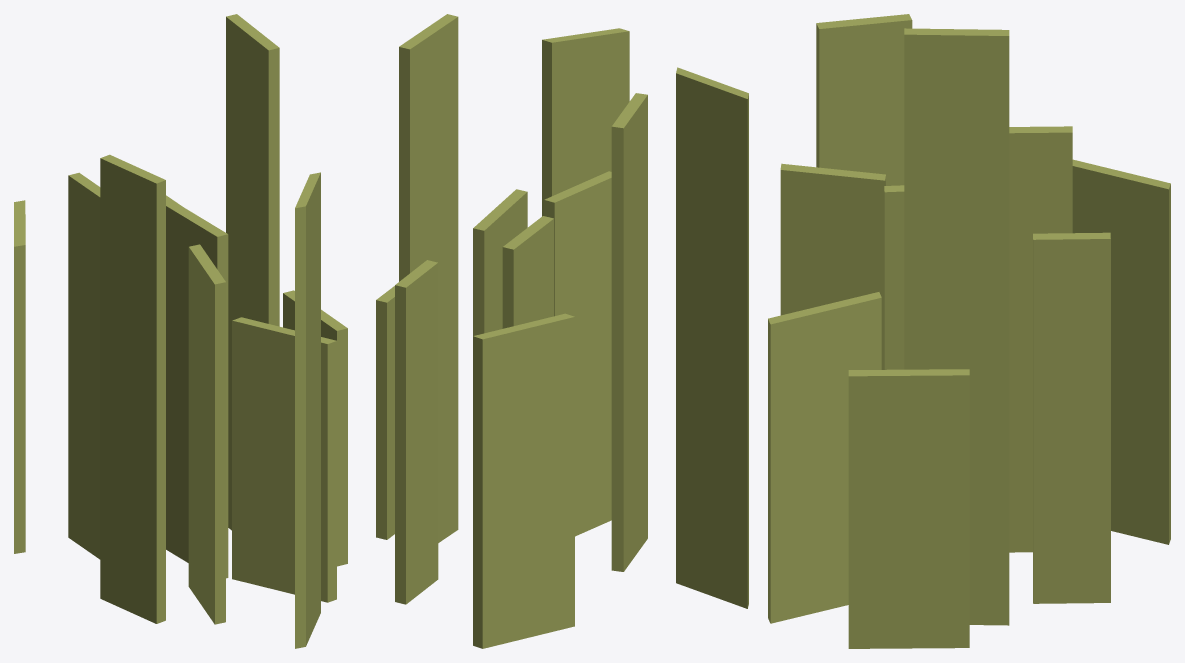
The model's file is Grass.fbx.
3 renders of one model, left to right at view 1: azimuth 30°, elevation 25°; view 2: azimuth 150°, elevation 25°; view 3: azimuth 270°, elevation 25°, orthographic. The views are drawn at different scales.
Parts seen in each view (by area): view 1: Grass; view 2: Grass; view 3: Grass.
Part boxes in pixels (bbox=[...]): Grass: bbox=[14, 14, 347, 648]; Grass: bbox=[376, 14, 647, 648]; Grass: bbox=[676, 14, 1170, 648].
Bounding box in the file's own units: 0.2959 × 0.5991 × 0.456.
